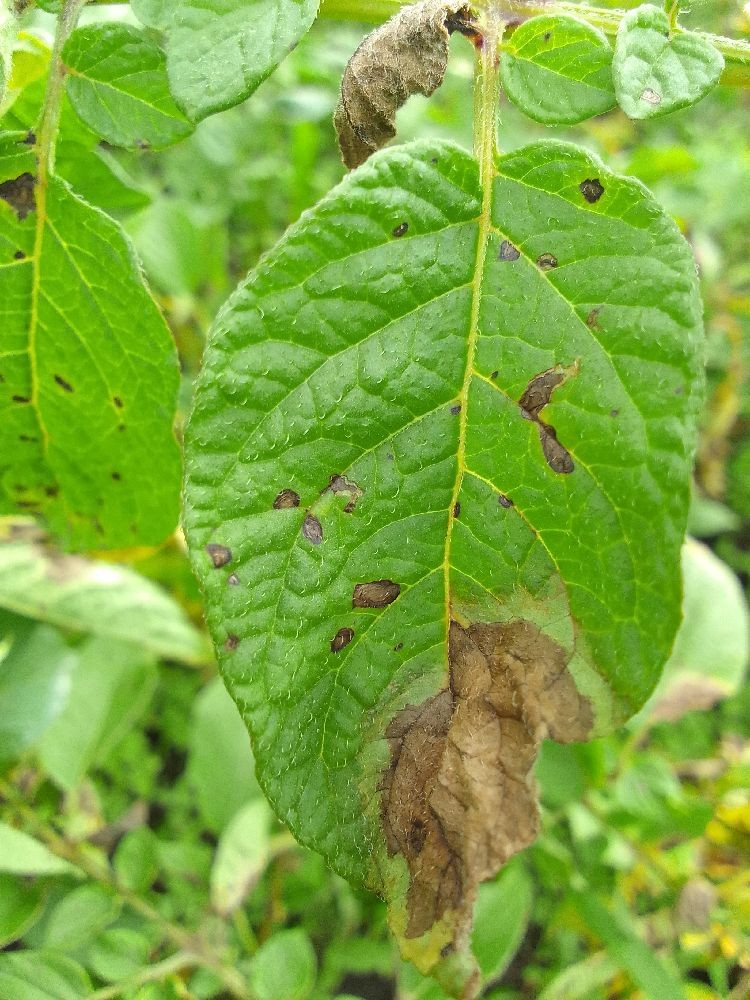late_blight: (361, 587, 611, 999), (316, 0, 510, 188), (322, 961, 406, 1000)
